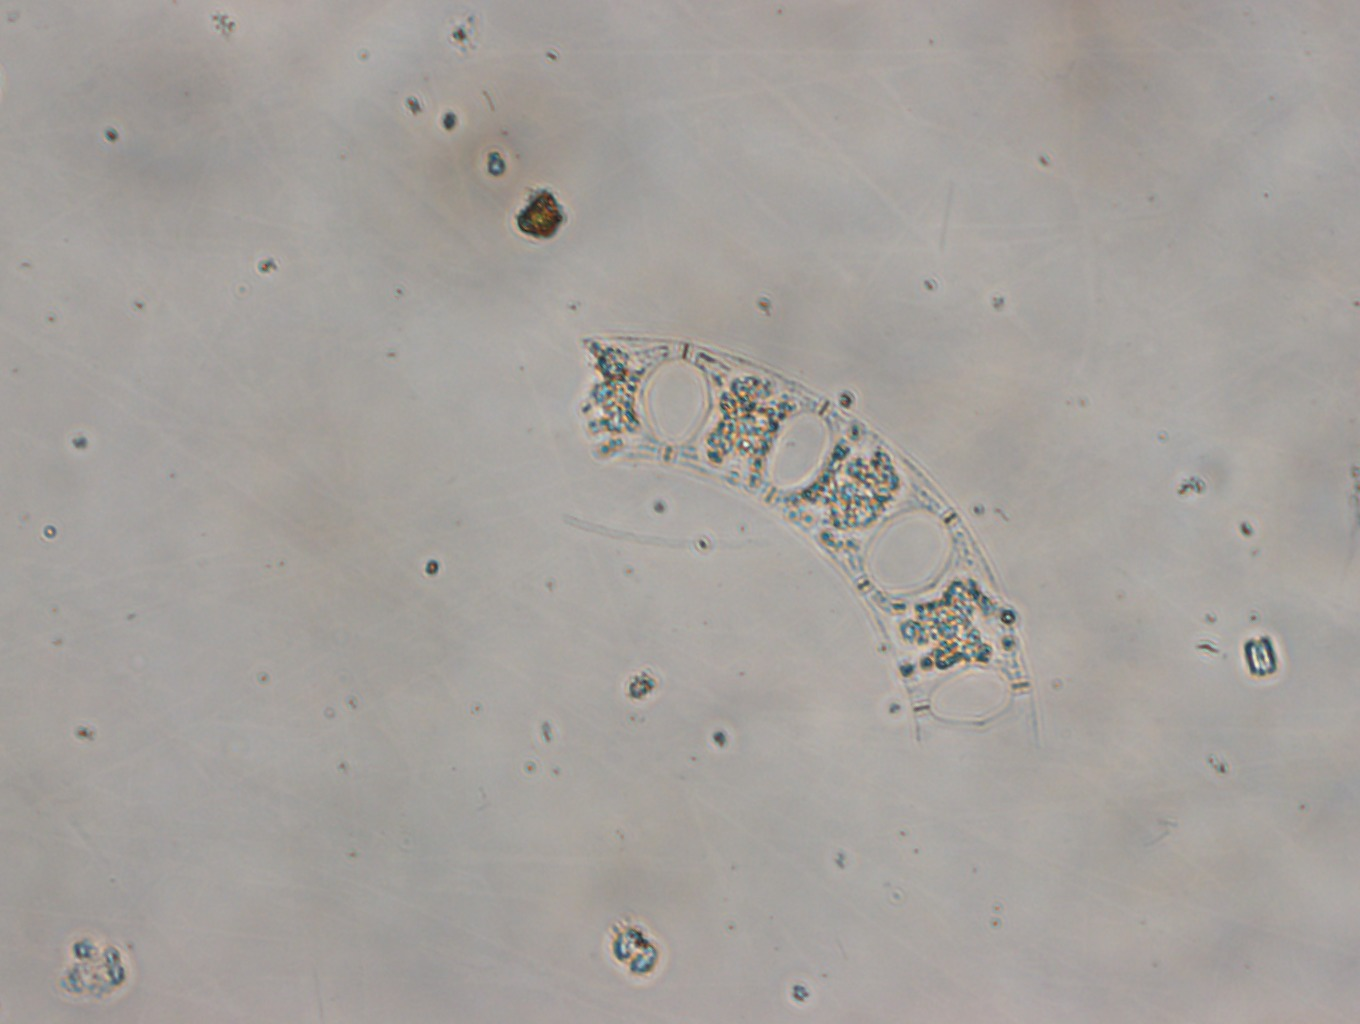eucampia: (571, 333, 1035, 767)
